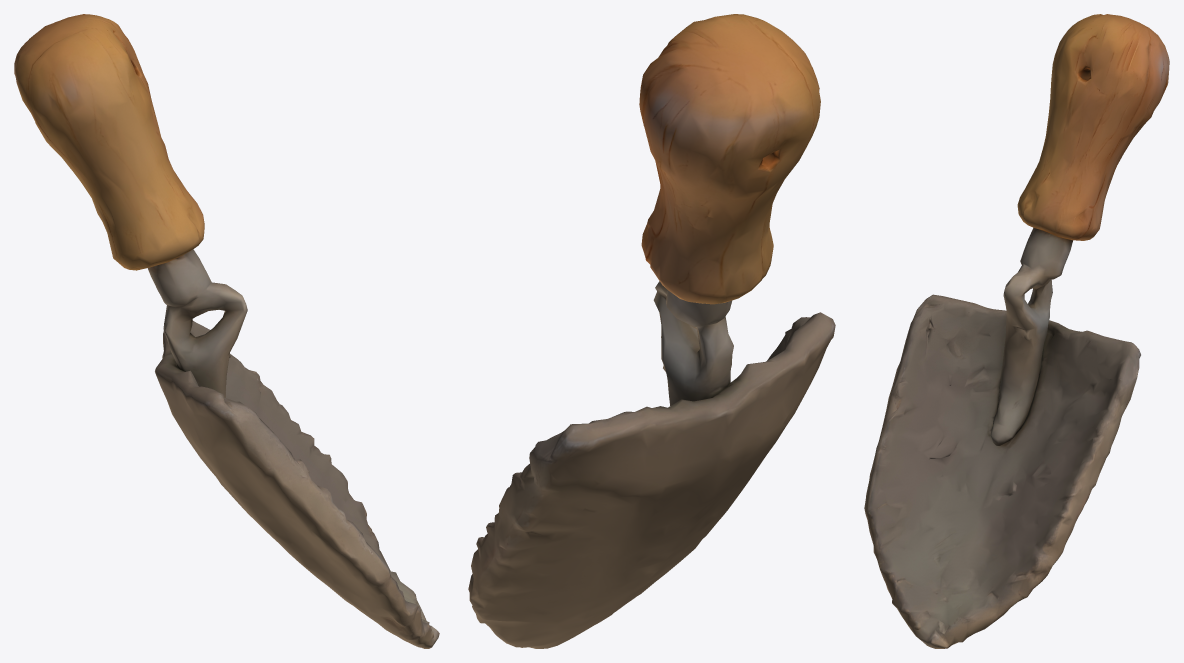
Rendered from trowel.glb.
3 renders of one model, left to right at view 1: azimuth 30°, elevation 25°; view 2: azimuth 150°, elevation 25°; view 3: azimuth 270°, elevation 25°, orthographic. The views are drawn at different scales.
Parts seen in each view (by area): view 1: tripo_node_88e1d632-8487-488e-a150-b85d05cb4d04; view 2: tripo_node_88e1d632-8487-488e-a150-b85d05cb4d04; view 3: tripo_node_88e1d632-8487-488e-a150-b85d05cb4d04.
Boxes of the visible parts, <box> form: tripo_node_88e1d632-8487-488e-a150-b85d05cb4d04: <box>14,14,439,648</box>; tripo_node_88e1d632-8487-488e-a150-b85d05cb4d04: <box>468,14,835,648</box>; tripo_node_88e1d632-8487-488e-a150-b85d05cb4d04: <box>864,14,1169,648</box>.
Size of the model in its own units: 0.5396 by 1 by 0.5234.
Materials: 1 (1 with a texture image).
